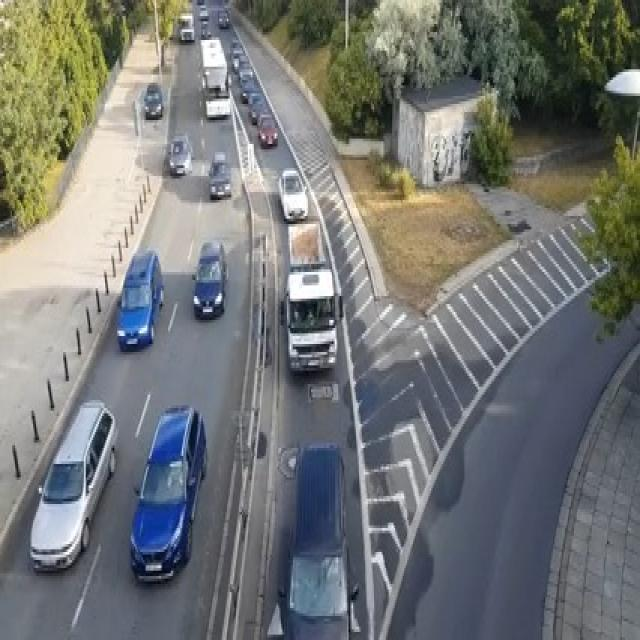car: (266, 440, 359, 637), (29, 398, 117, 574), (130, 403, 208, 584), (281, 267, 342, 373), (115, 248, 163, 349), (191, 238, 227, 318), (278, 168, 308, 221), (208, 150, 232, 198), (167, 133, 192, 176), (142, 83, 164, 117), (257, 112, 278, 147), (177, 11, 194, 40), (251, 96, 267, 123), (240, 80, 260, 101), (237, 67, 254, 85), (198, 3, 209, 21), (218, 8, 228, 27), (200, 22, 210, 38), (196, 0, 204, 3)
truck: (200, 35, 230, 117)
